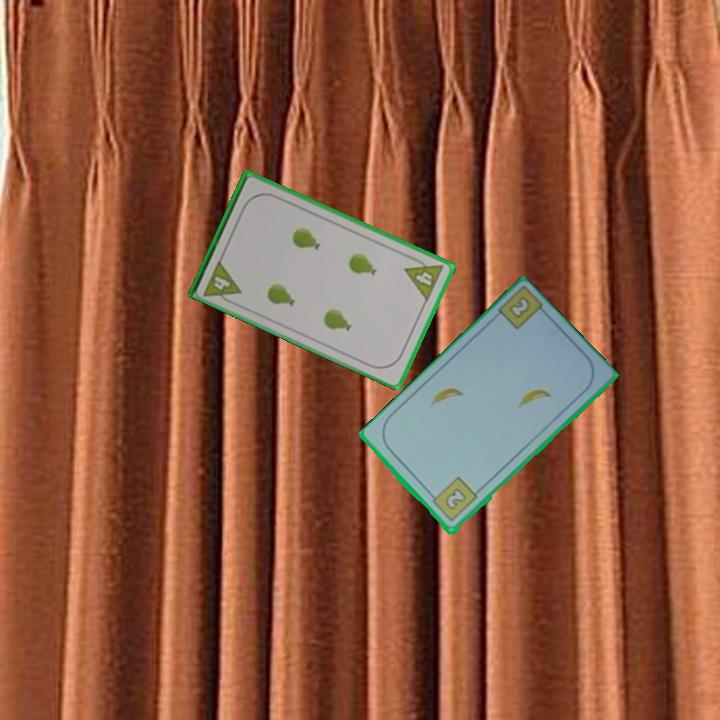2b: (426, 474, 480, 525), (505, 293, 533, 322)
4p: (401, 252, 447, 304), (200, 256, 244, 308)
